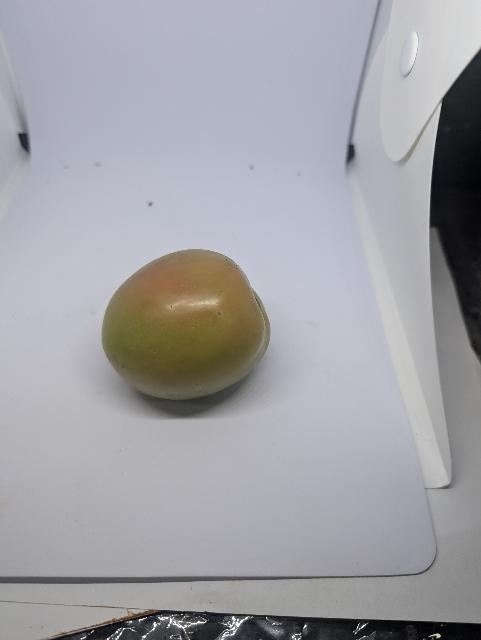breaker: (102, 249, 271, 400)
